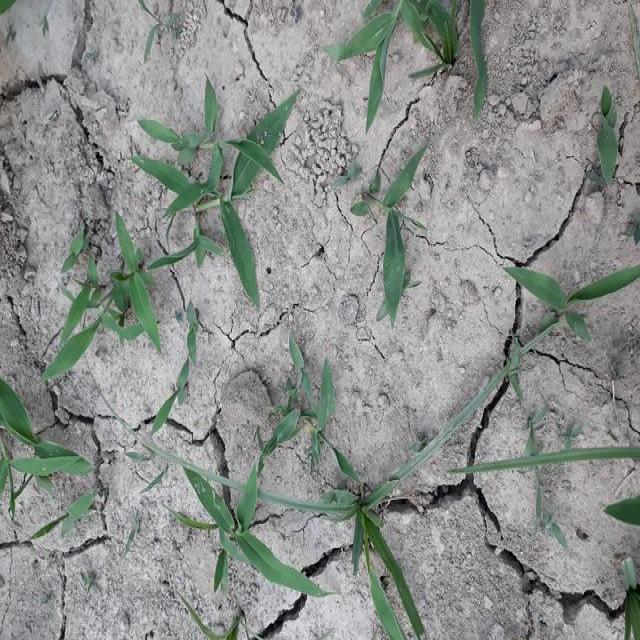weed: (177, 412, 422, 640), (143, 79, 298, 325), (341, 0, 512, 123)
